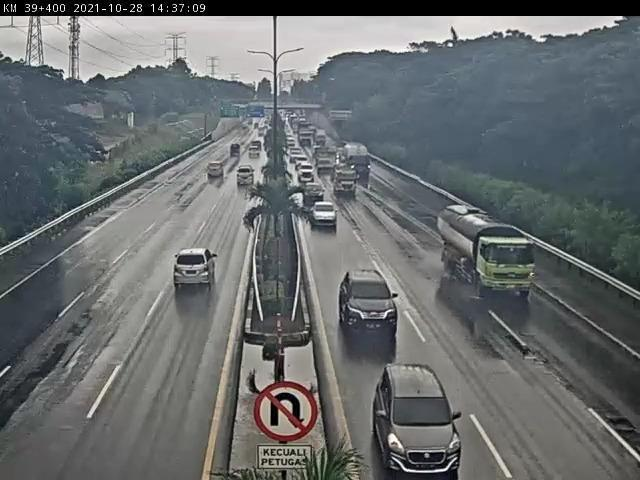car: (366, 358, 465, 465), (339, 266, 401, 344), (170, 242, 222, 298), (308, 201, 340, 231), (299, 178, 324, 200), (206, 157, 228, 181), (234, 166, 256, 190), (297, 160, 318, 183), (227, 143, 245, 161), (318, 156, 334, 174), (248, 144, 263, 159), (249, 141, 262, 154)
truck: (436, 199, 536, 301), (337, 136, 374, 182)
